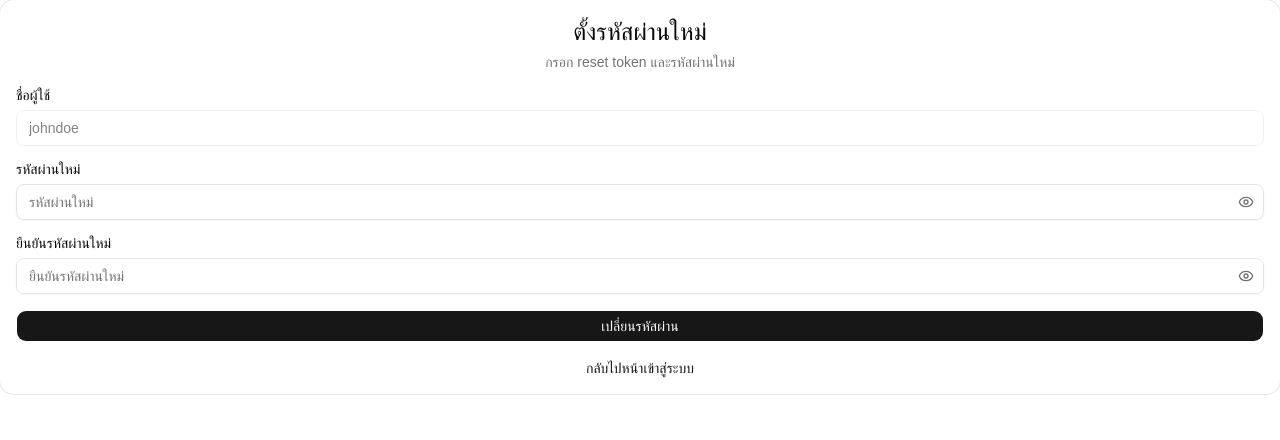
Test: ResetPasswordPage › shows error when password is too short
The width and height of the screenshot is (1280, 440).
In the password field labelled "รหัสผ่านใหม่": (640, 202) [16,184,1264,220], type "12345"
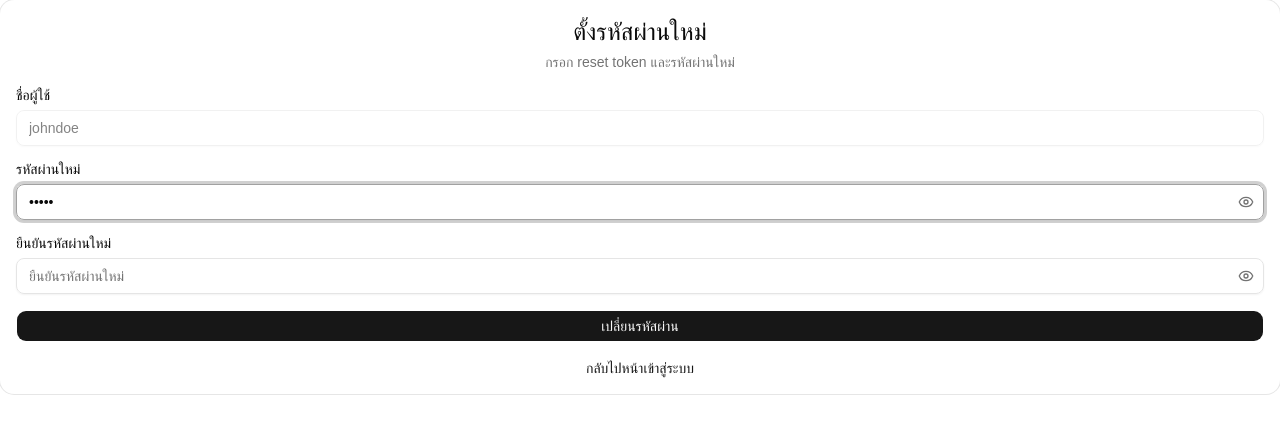
In the password field labelled "ยืนยันรหัสผ่านใหม่": (640, 276) [16,258,1264,294], type "12345"
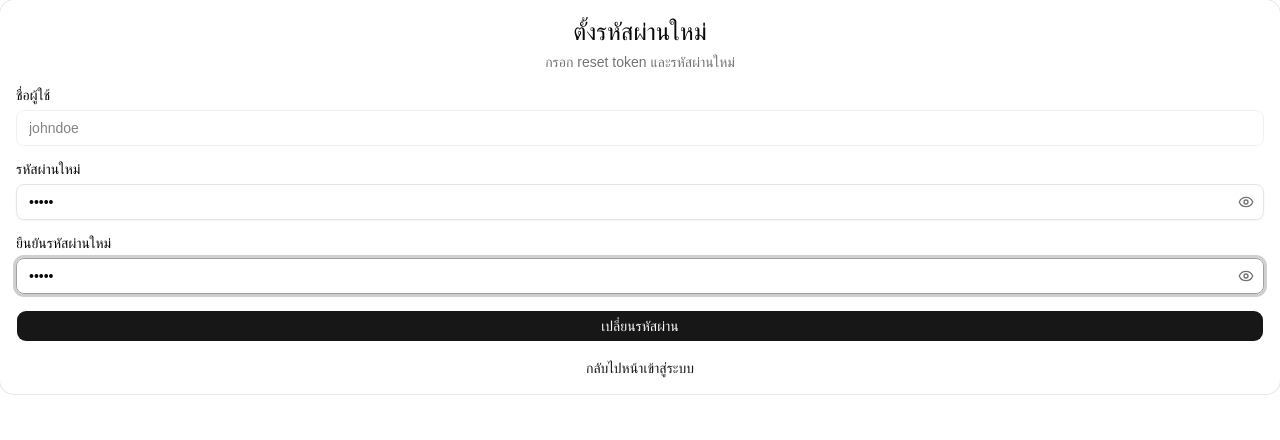
Click the button "เปลี่ยนรหัสผ่าน": click(640, 326) [16,310,1264,342]
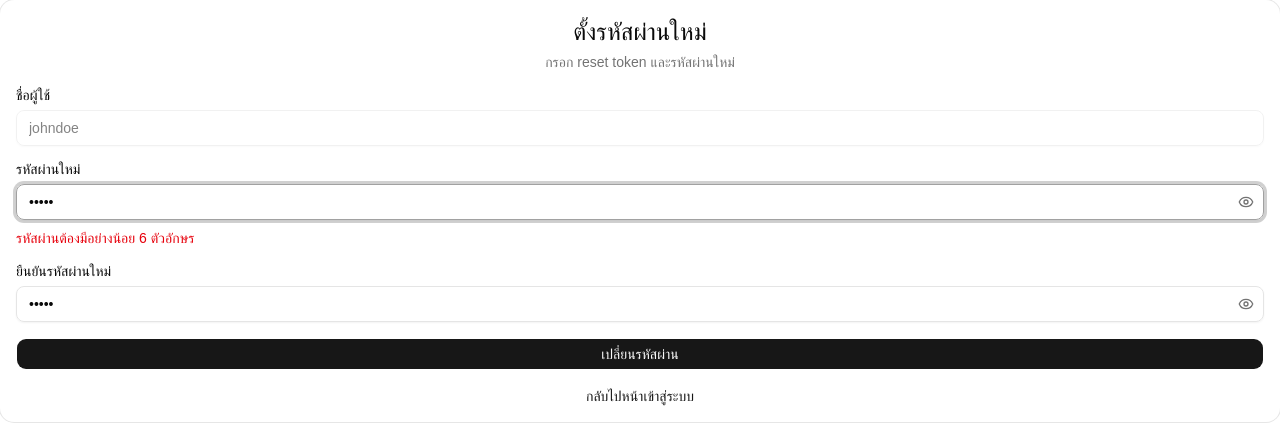
Result: the text "รหัสผ่านต้องมีอย่างน้อย 6 ตัวอักษร" is shown at [16,230,194,246]
